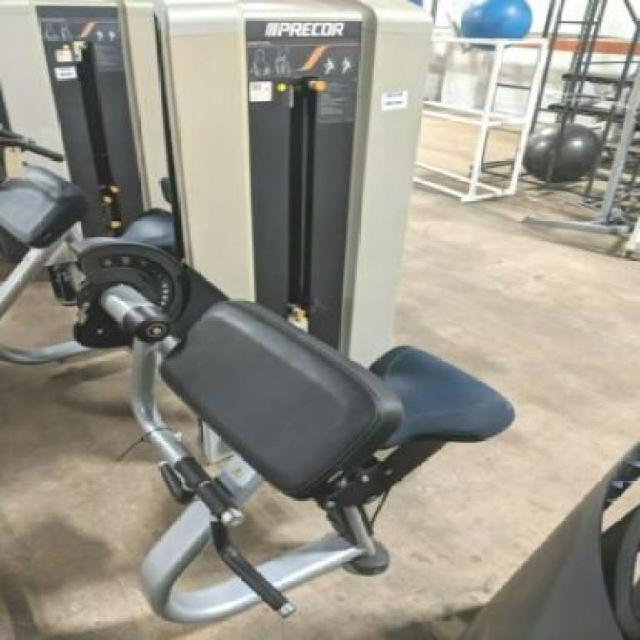arm curl machine: (77, 238, 515, 624)
